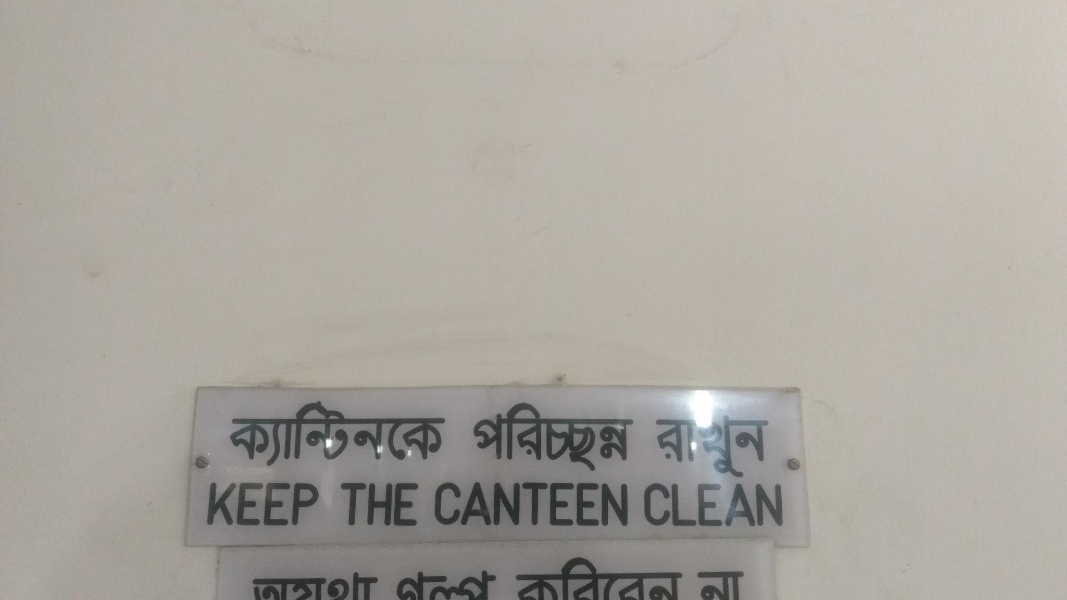text: (481, 401, 496, 473), (497, 401, 512, 473), (513, 401, 528, 473), (529, 401, 544, 473), (545, 401, 560, 473), (561, 401, 576, 473), (577, 401, 592, 473), (593, 401, 608, 473), (609, 401, 624, 473), (657, 411, 672, 481), (673, 411, 688, 481), (689, 411, 704, 481), (705, 411, 720, 481), (721, 411, 736, 481), (737, 411, 752, 481), (753, 411, 768, 481), (241, 401, 256, 469), (257, 401, 272, 469), (273, 401, 288, 469), (289, 401, 304, 469), (305, 401, 320, 469), (321, 401, 336, 469), (337, 401, 352, 469), (353, 401, 368, 469), (369, 401, 384, 469), (385, 401, 400, 469), (401, 401, 416, 469), (417, 401, 432, 469), (433, 401, 447, 469), (641, 478, 656, 533), (657, 478, 672, 533), (673, 478, 688, 533), (689, 478, 704, 533), (705, 478, 720, 533), (721, 478, 736, 533), (737, 478, 752, 533), (753, 478, 768, 533), (769, 478, 784, 533), (449, 477, 464, 530), (465, 477, 480, 530), (481, 477, 496, 530), (497, 477, 512, 530), (513, 477, 528, 530), (529, 477, 544, 530), (545, 477, 560, 530), (561, 477, 576, 530), (577, 477, 592, 530), (593, 477, 608, 530), (609, 477, 624, 530), (209, 477, 224, 530), (225, 477, 240, 530), (241, 477, 256, 530), (257, 477, 272, 530), (273, 477, 288, 530), (289, 477, 304, 530), (305, 477, 320, 530), (625, 401, 636, 473), (229, 401, 240, 469), (434, 477, 448, 530), (353, 480, 368, 529), (369, 480, 384, 529), (385, 480, 400, 529), (401, 480, 416, 529), (529, 555, 544, 598), (545, 555, 560, 598), (561, 555, 576, 598), (577, 555, 592, 598), (593, 555, 608, 598), (609, 555, 624, 598), (625, 555, 640, 598), (641, 555, 656, 598), (657, 555, 672, 598), (339, 480, 352, 529), (705, 567, 720, 600), (721, 567, 736, 600), (625, 477, 634, 530), (673, 555, 684, 598), (401, 567, 416, 598), (417, 567, 432, 598), (433, 567, 448, 598), (449, 567, 464, 598), (465, 567, 480, 598), (481, 567, 496, 598), (257, 568, 272, 597), (273, 568, 288, 597), (289, 568, 304, 597), (305, 568, 320, 597), (321, 568, 336, 597), (337, 568, 352, 597), (353, 568, 368, 597), (474, 401, 480, 473), (518, 555, 528, 598), (369, 568, 382, 597), (635, 478, 640, 533), (785, 478, 790, 533), (769, 411, 772, 481), (698, 567, 704, 600), (737, 567, 743, 600), (417, 480, 421, 529), (250, 568, 256, 597), (205, 477, 208, 530), (497, 567, 502, 598), (397, 567, 400, 598)
